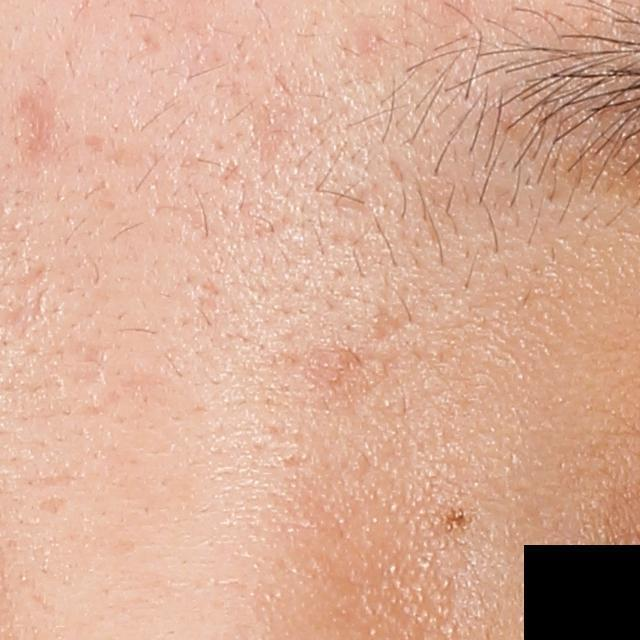atrophic_scar: (12, 89, 59, 169), (370, 298, 405, 342), (215, 150, 246, 192), (131, 29, 161, 60), (79, 133, 107, 152)
nevus: (442, 503, 470, 534)
